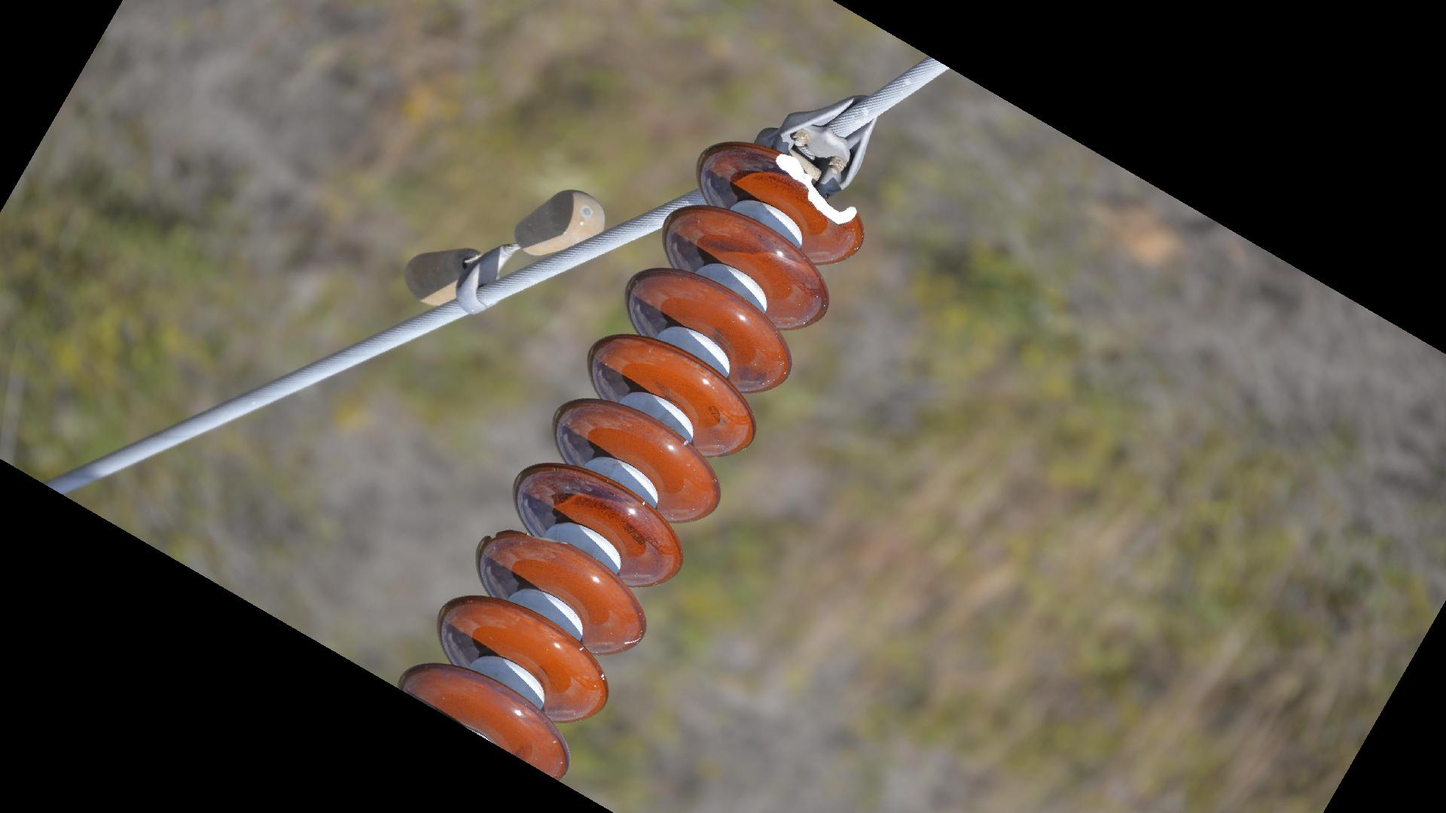insulator: (389, 136, 871, 787)
insulator_breakage: (763, 147, 868, 235)
